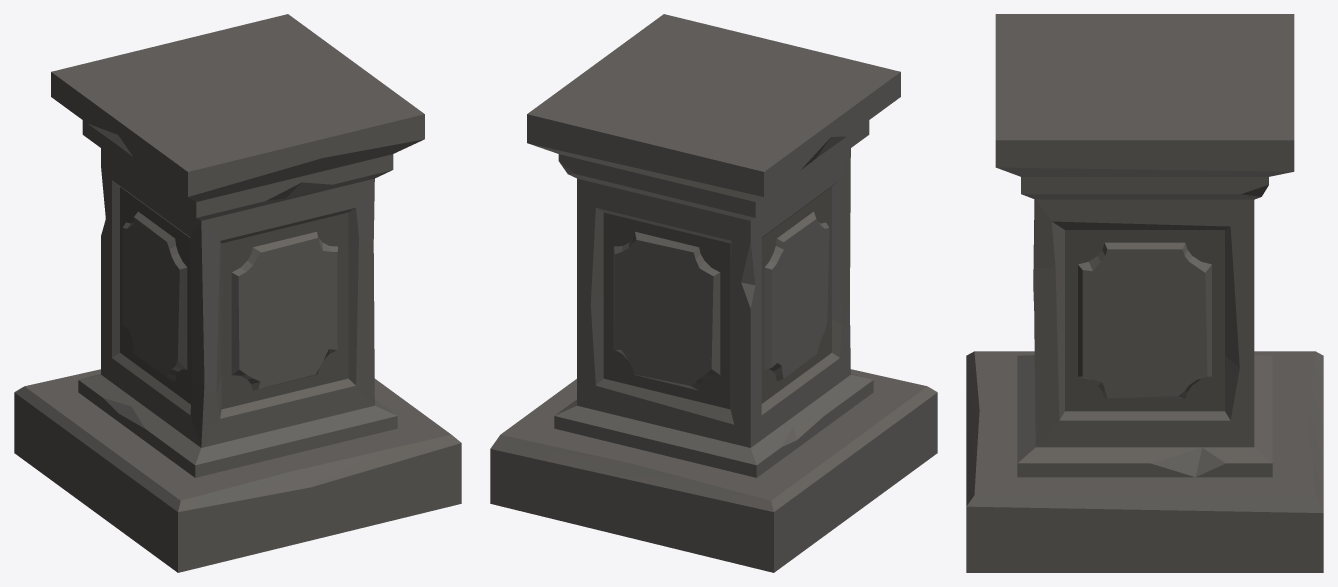
File: prop_statue_plinth.gltf
3 views of the same model, side by side, from view 1: azimuth 30°, elevation 25°; view 2: azimuth 150°, elevation 25°; view 3: azimuth 270°, elevation 25° (orthographic). The views are drawn at different scales.
Parts seen in each view (by area): view 1: prop_statue_plinth; view 2: prop_statue_plinth; view 3: prop_statue_plinth.
Boxes of the visible parts, left/top/right/bottom form: prop_statue_plinth: left=14, top=14, right=461, bottom=572; prop_statue_plinth: left=490, top=14, right=937, bottom=572; prop_statue_plinth: left=966, top=14, right=1323, bottom=572.
Bounding box in the file's own units: 1.44 × 1.87 × 1.44.
Materials: 1 (1 with a texture image).
